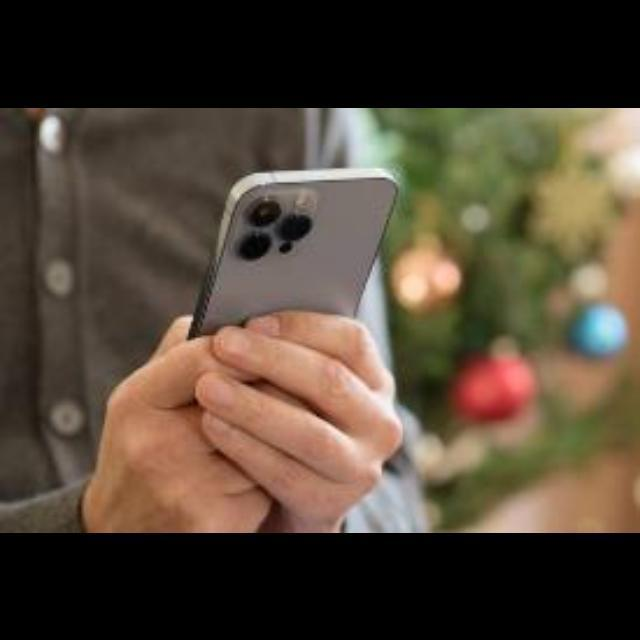phone: (156, 160, 440, 487)
